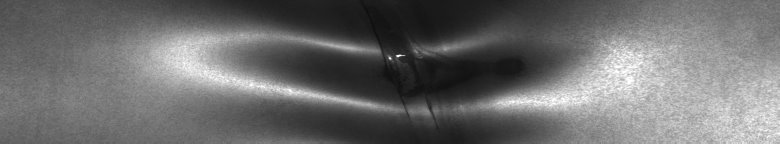ke: (270, 36, 524, 120)
